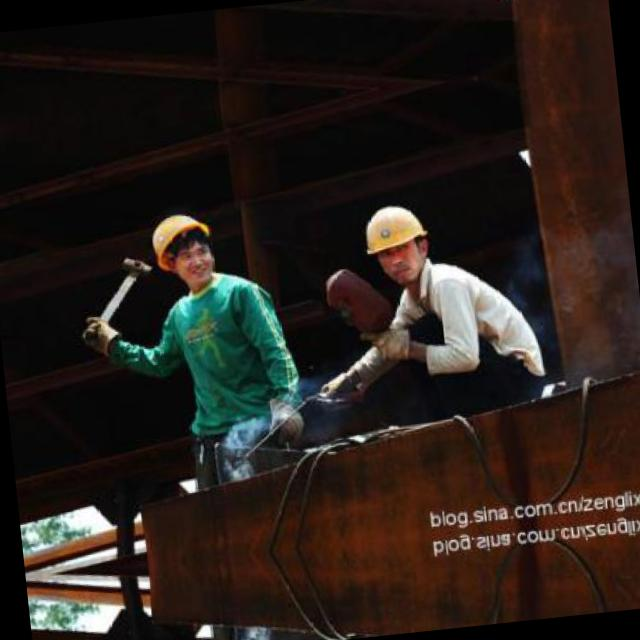helmet: (356, 194, 441, 290), (142, 198, 228, 292)
